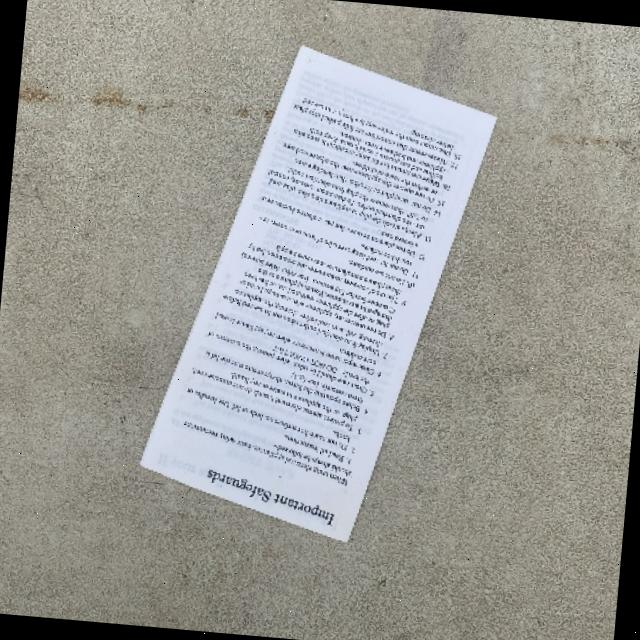paper: (133, 32, 502, 552)
